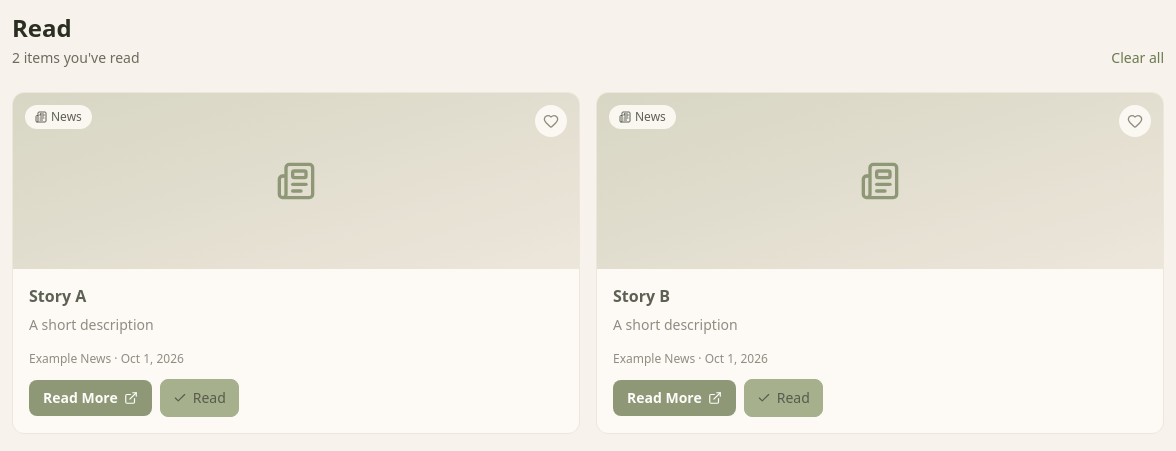
Test case: ReadPage › lists read items and clears them all
Expected: the text "2 items you've read" is shown, [12,48,140,68]
Expected: the heading "Story A" is shown, [29,285,86,307]
Click the button "Clear all" at (1138, 58), box [1111,48,1164,68]
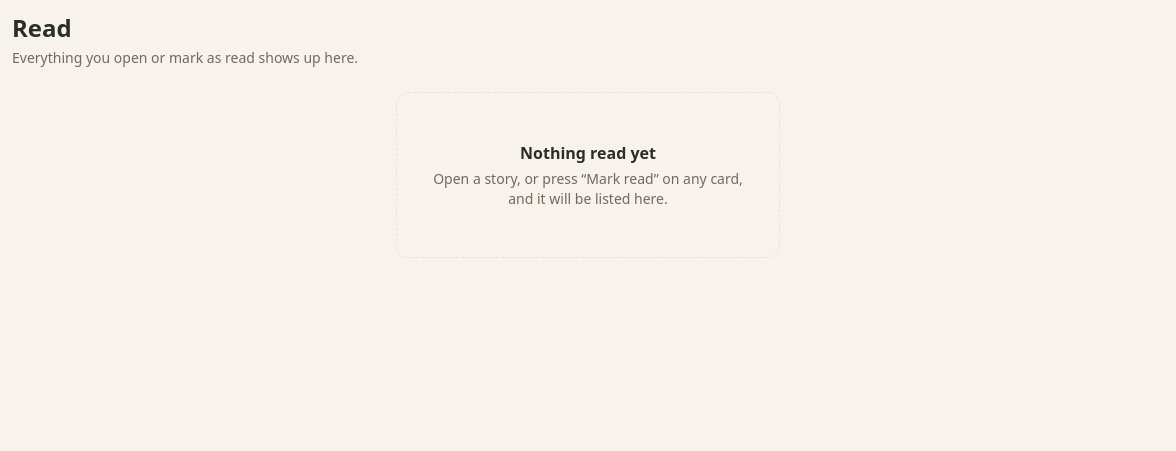
Now the heading "Nothing read yet" is shown, box [520,142,656,164]
